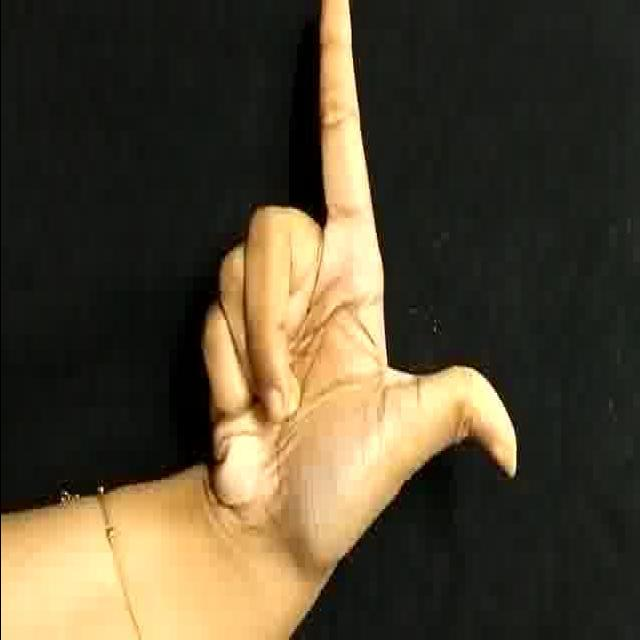chandrakala: (163, 0, 542, 640)
